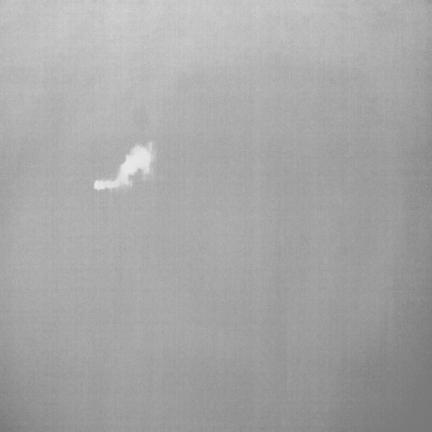flukeprints: (94, 143, 153, 190)
